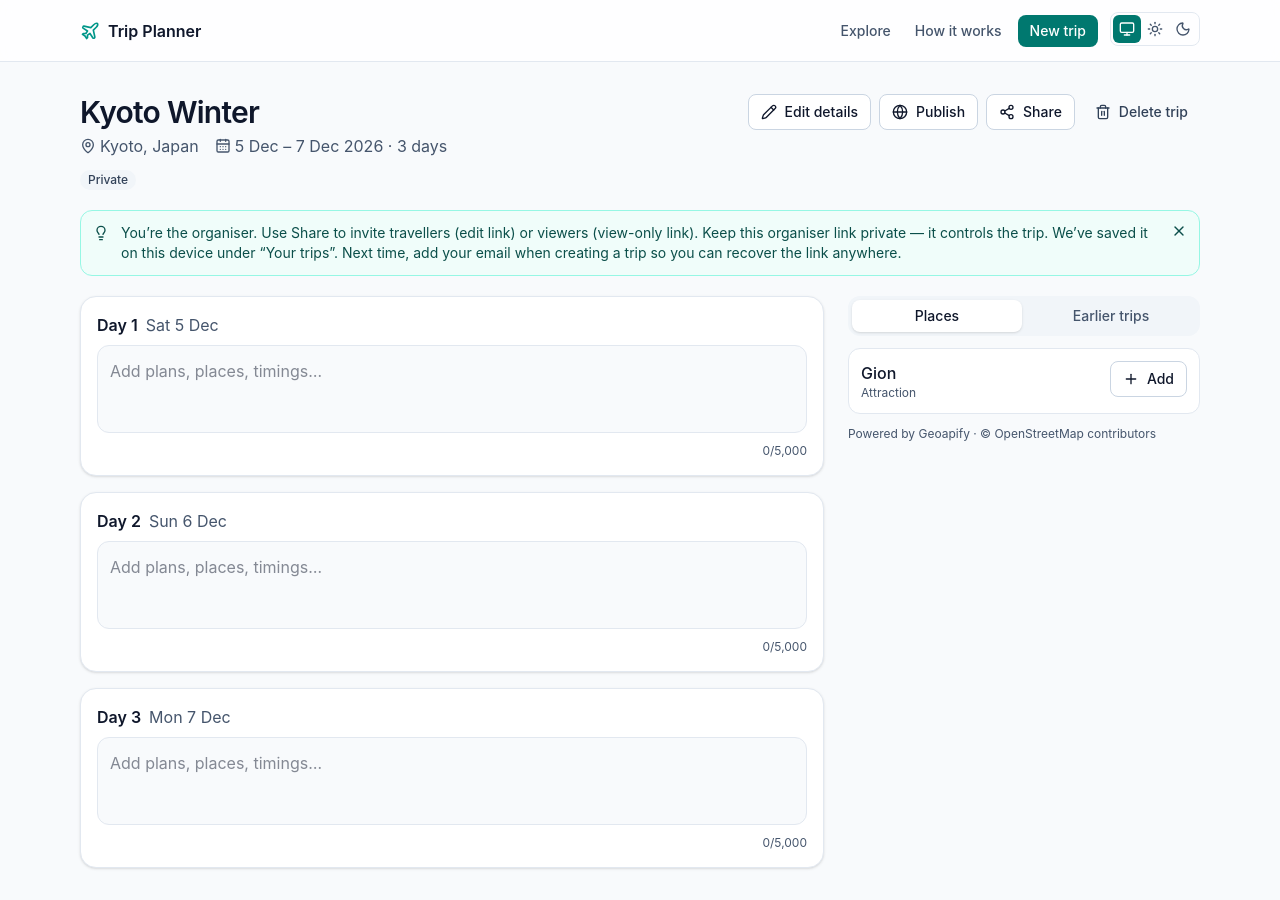
Scenario: TripPage — places & add to plan (F5, AC3.1–3.2) › adds a place to the chosen day through autosave
Click the button with aria-label "Add Gion to plan" at (1148, 379), box 1110,361 -> 1187,397
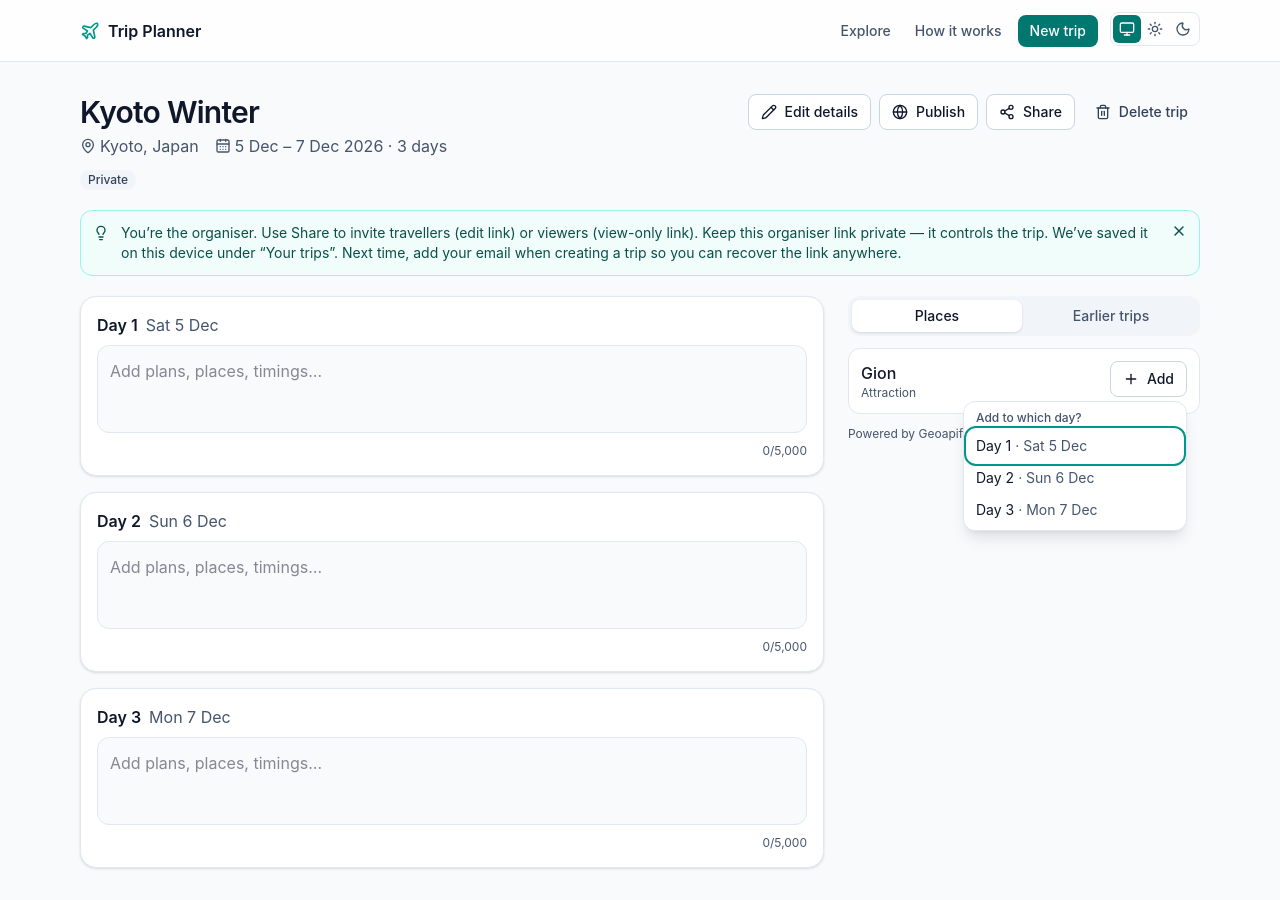
Click the button "Day 2· Sun 6 Dec" at (1075, 478), box 968,462 -> 1182,494
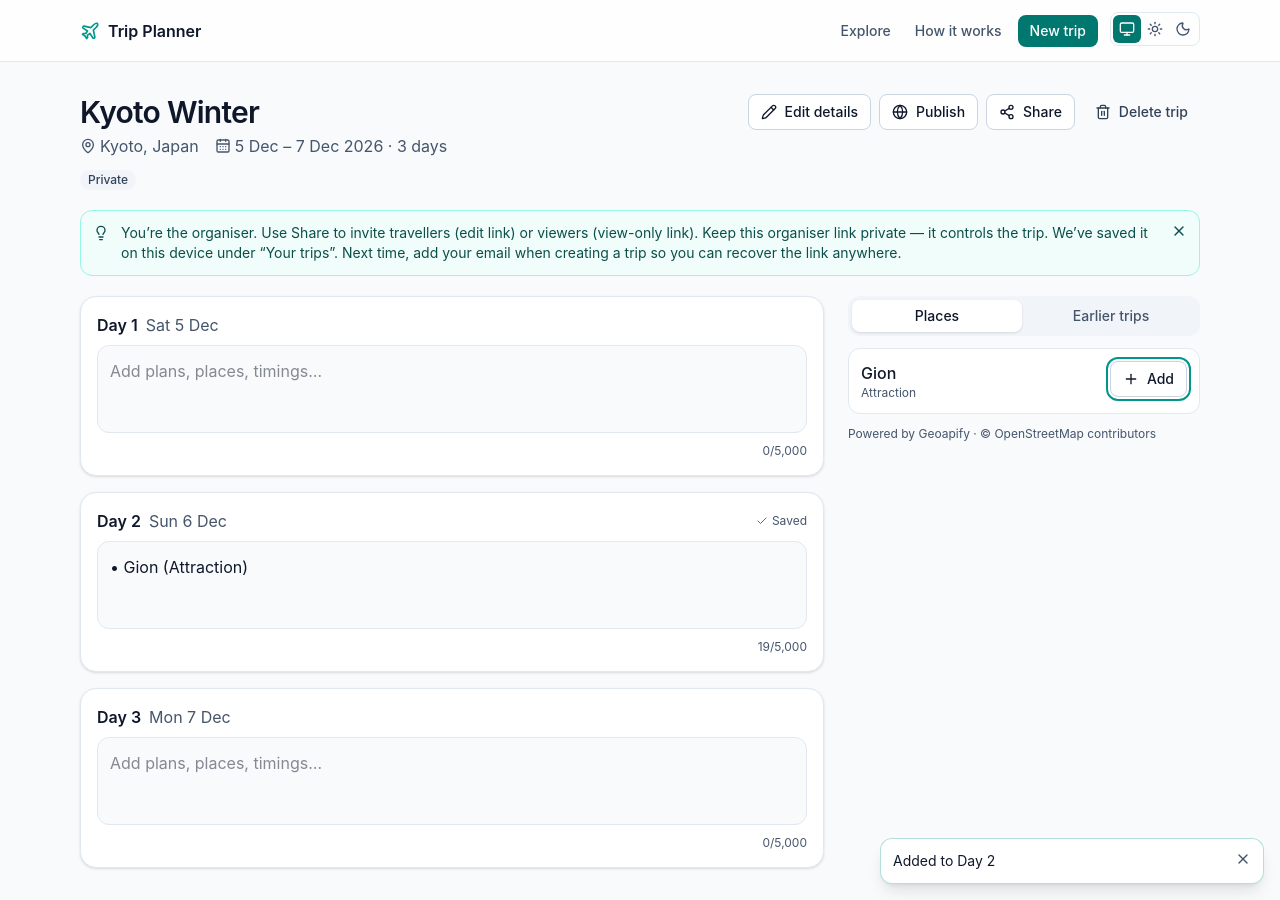
Expected: the text "Added to Day 2" is shown, 893,852 -> 995,869
